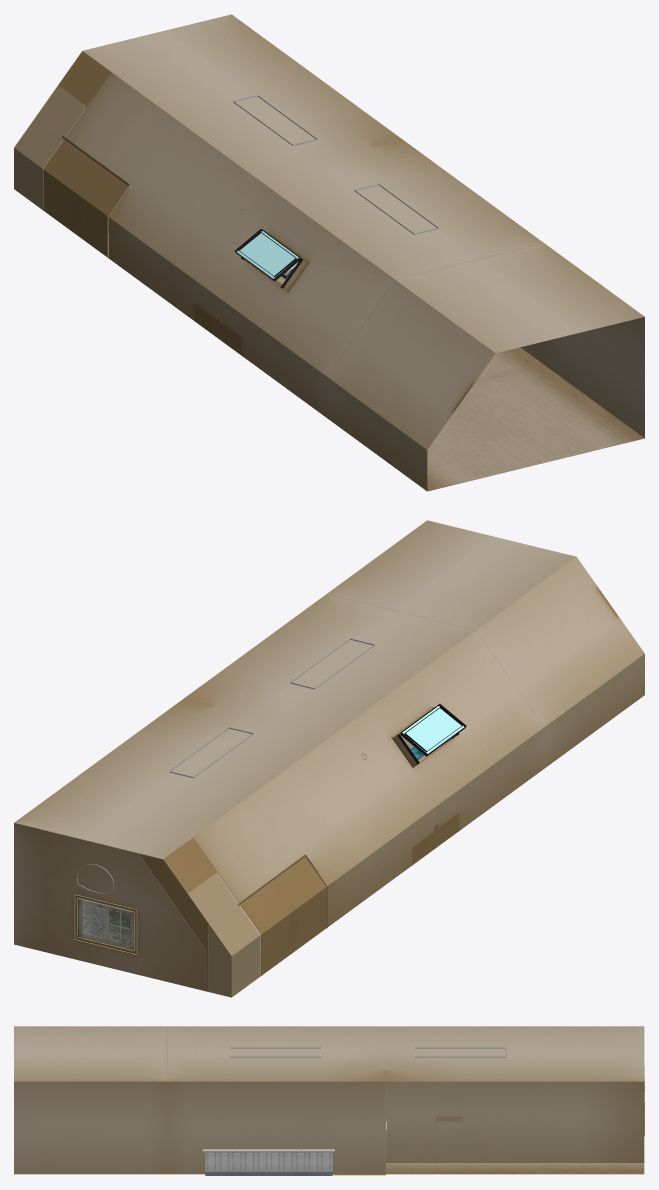
File: DanShenGongYu_01_new.FBX
The picture shows the model from 3 angles, top to bottom: view 1: azimuth 30°, elevation 25°; view 2: azimuth 150°, elevation 25°; view 3: azimuth 270°, elevation 25°; orthographic projection. The views are drawn at different scales.
Parts seen in each view (by area): view 1: DanShenHan_ChangJing, Object004; view 2: DanShenHan_ChangJing, Object004; view 3: DanShenHan_ChangJing, DanShenHan_ChangJing_wujian01.
Boxes of the visible parts, x1,y1,x2,y2 form: DanShenHan_ChangJing: (14,14,644,491); Object004: (235,228,300,281); DanShenHan_ChangJing: (14,520,644,997); Object004: (400,704,466,756); DanShenHan_ChangJing: (14,1026,644,1174); DanShenHan_ChangJing_wujian01: (202,1121,386,1175).
Size of the model in its own units: 2952 by 1575 by 9509.
